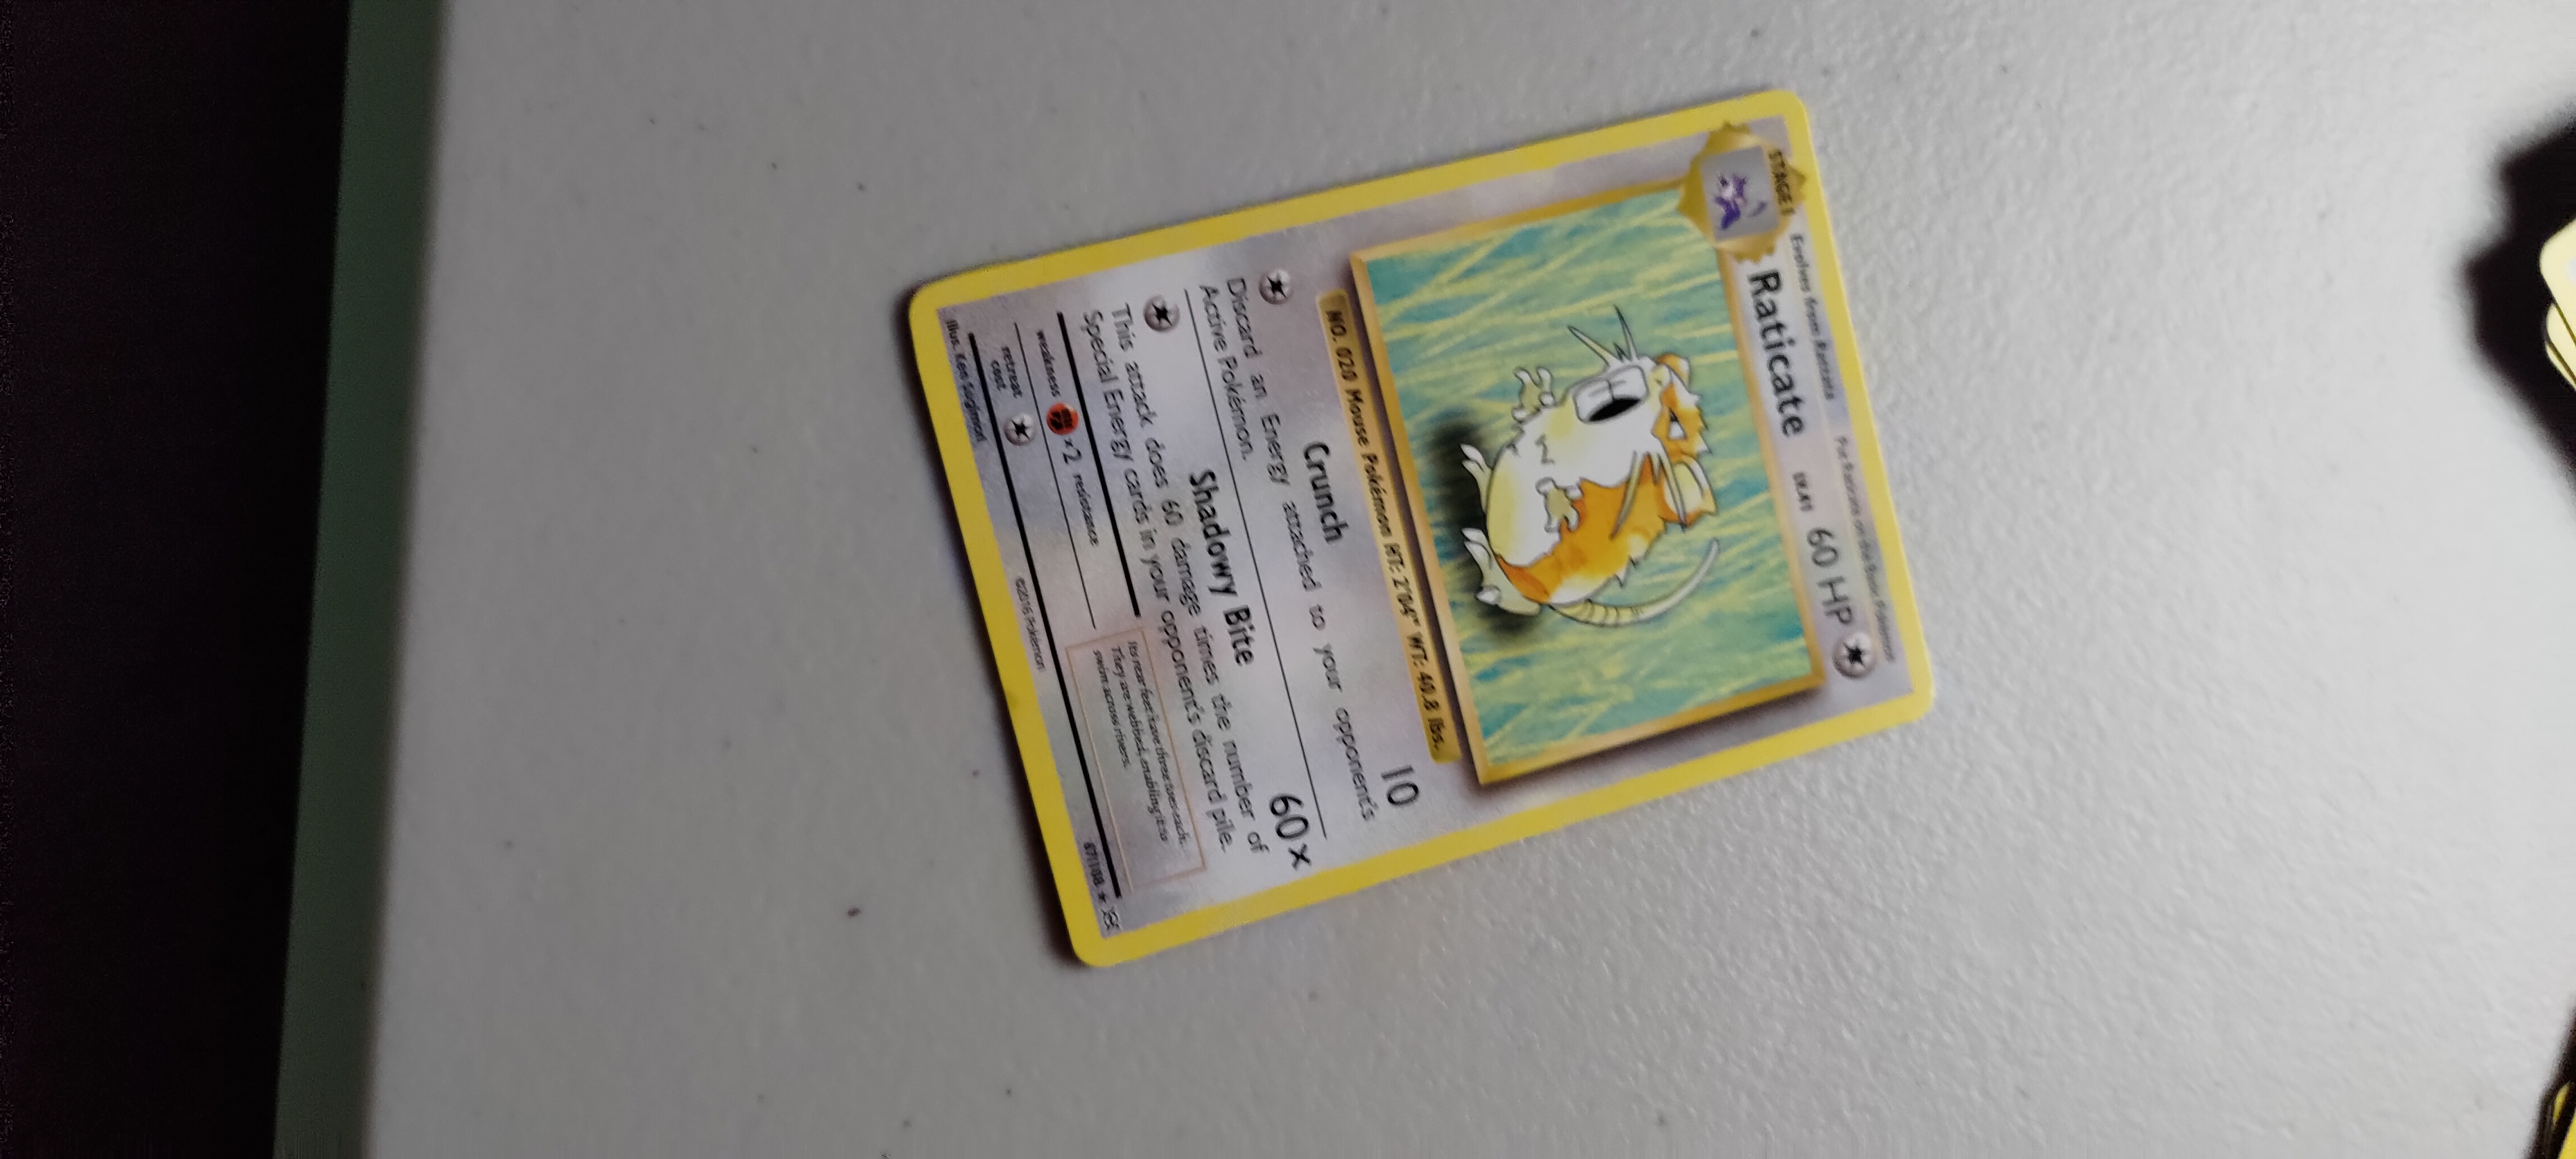pokemon_card: (872, 259, 1830, 1016)
